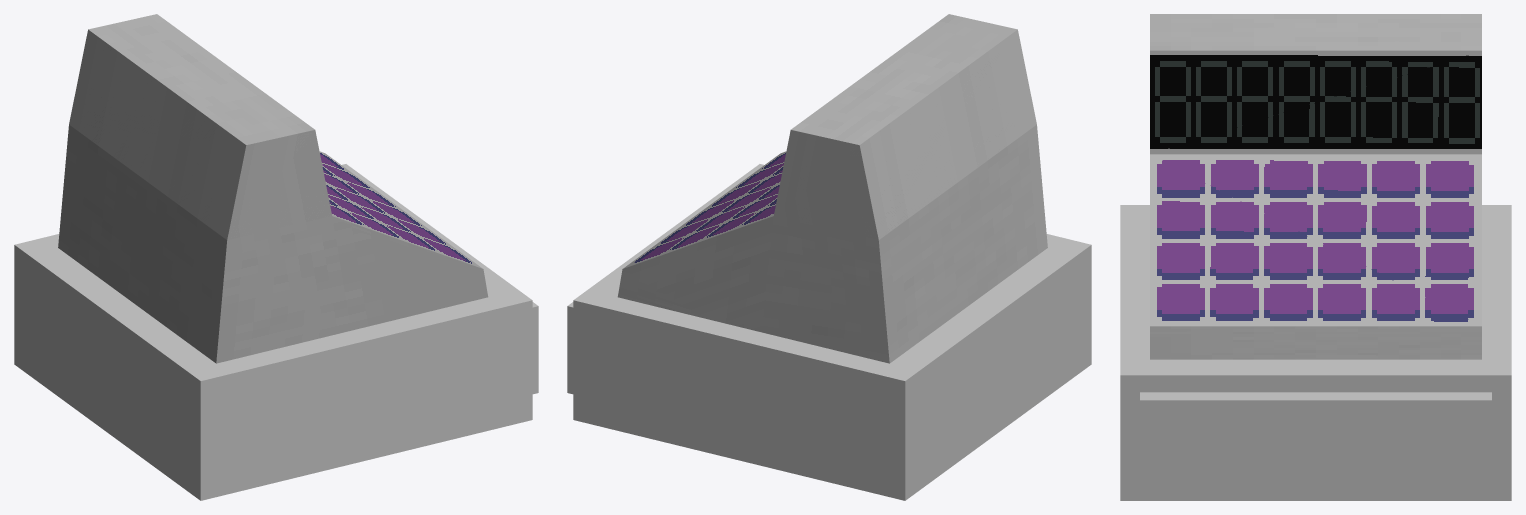
File: mod_CajaRegistradora.fbx
3 renders of one model, left to right at view 1: azimuth 30°, elevation 25°; view 2: azimuth 150°, elevation 25°; view 3: azimuth 270°, elevation 25°, orthographic. The views are drawn at different scales.
Parts seen in each view (by area): view 1: msh_CajaR1, msh_CajaR0; view 2: msh_CajaR1, msh_CajaR0; view 3: msh_CajaR1, msh_CajaR0.
Boxes of the visible parts, x1,y1,x2,y2 form: msh_CajaR1: (58, 14, 488, 363); msh_CajaR0: (14, 164, 538, 500); msh_CajaR1: (617, 14, 1047, 363); msh_CajaR0: (567, 164, 1091, 500); msh_CajaR1: (1150, 14, 1481, 359); msh_CajaR0: (1120, 205, 1511, 500).
Bounding box in the file's own units: 42.66 × 38.85 × 39.68.
